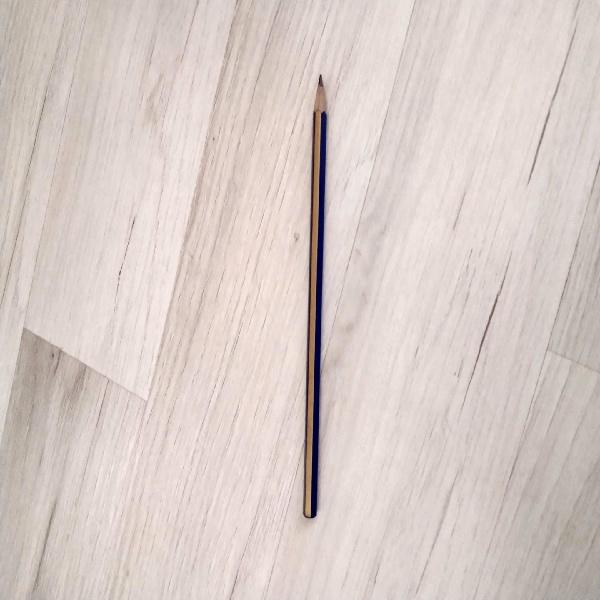pencil: (297, 76, 331, 520)
